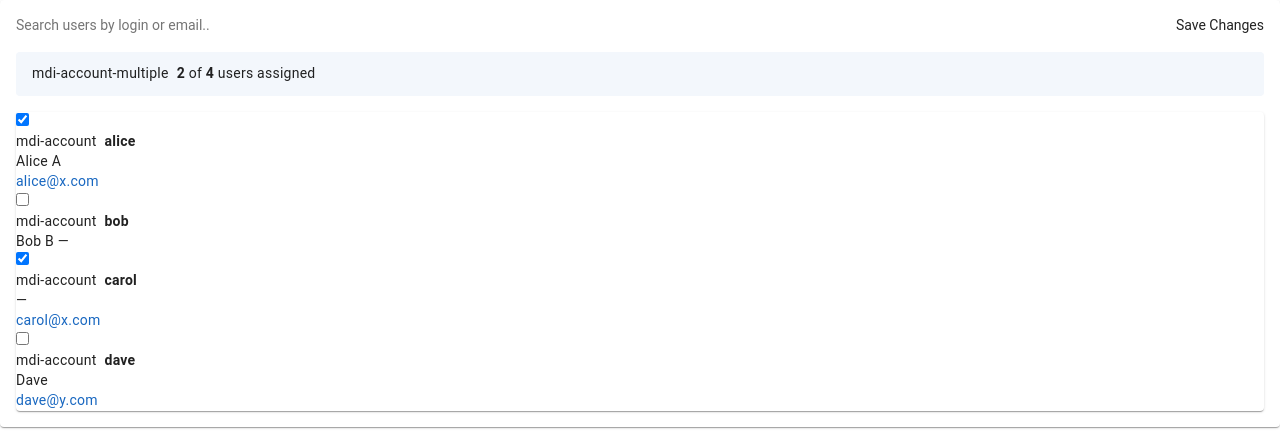
Scenario: RoleUsersTab interactions › toggles a user off and enables save with change counter
Click the 1st checkbox with class "stub-checkbox" at x=22, y=119, box [16,113,29,126]
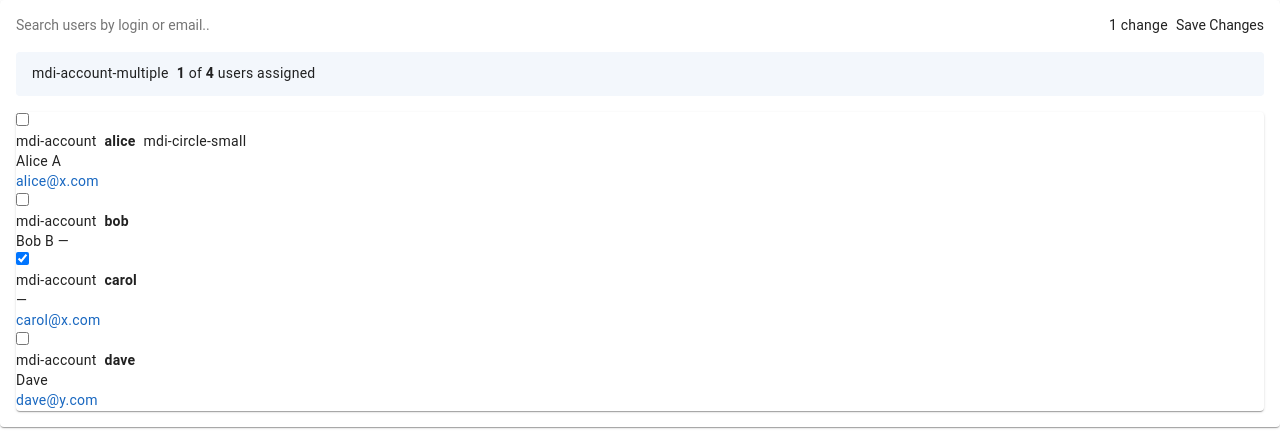
Expected: the button with class "stub-save-btn" is enabled, [1176,16,1264,36]
Expected: the text "1 change" is shown, [1109,16,1168,36]
